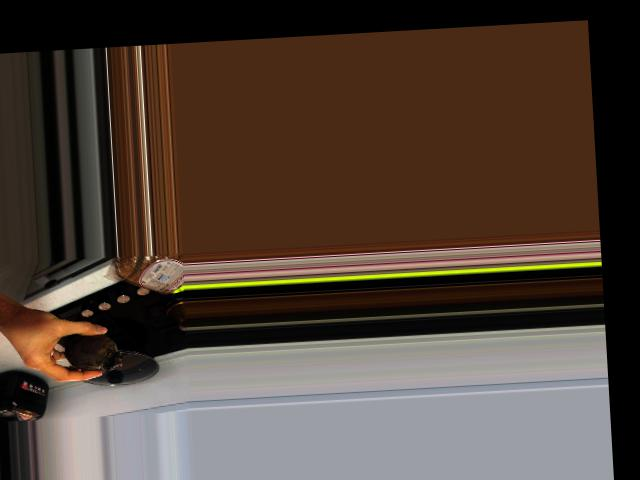beet: (60, 332, 123, 372)
